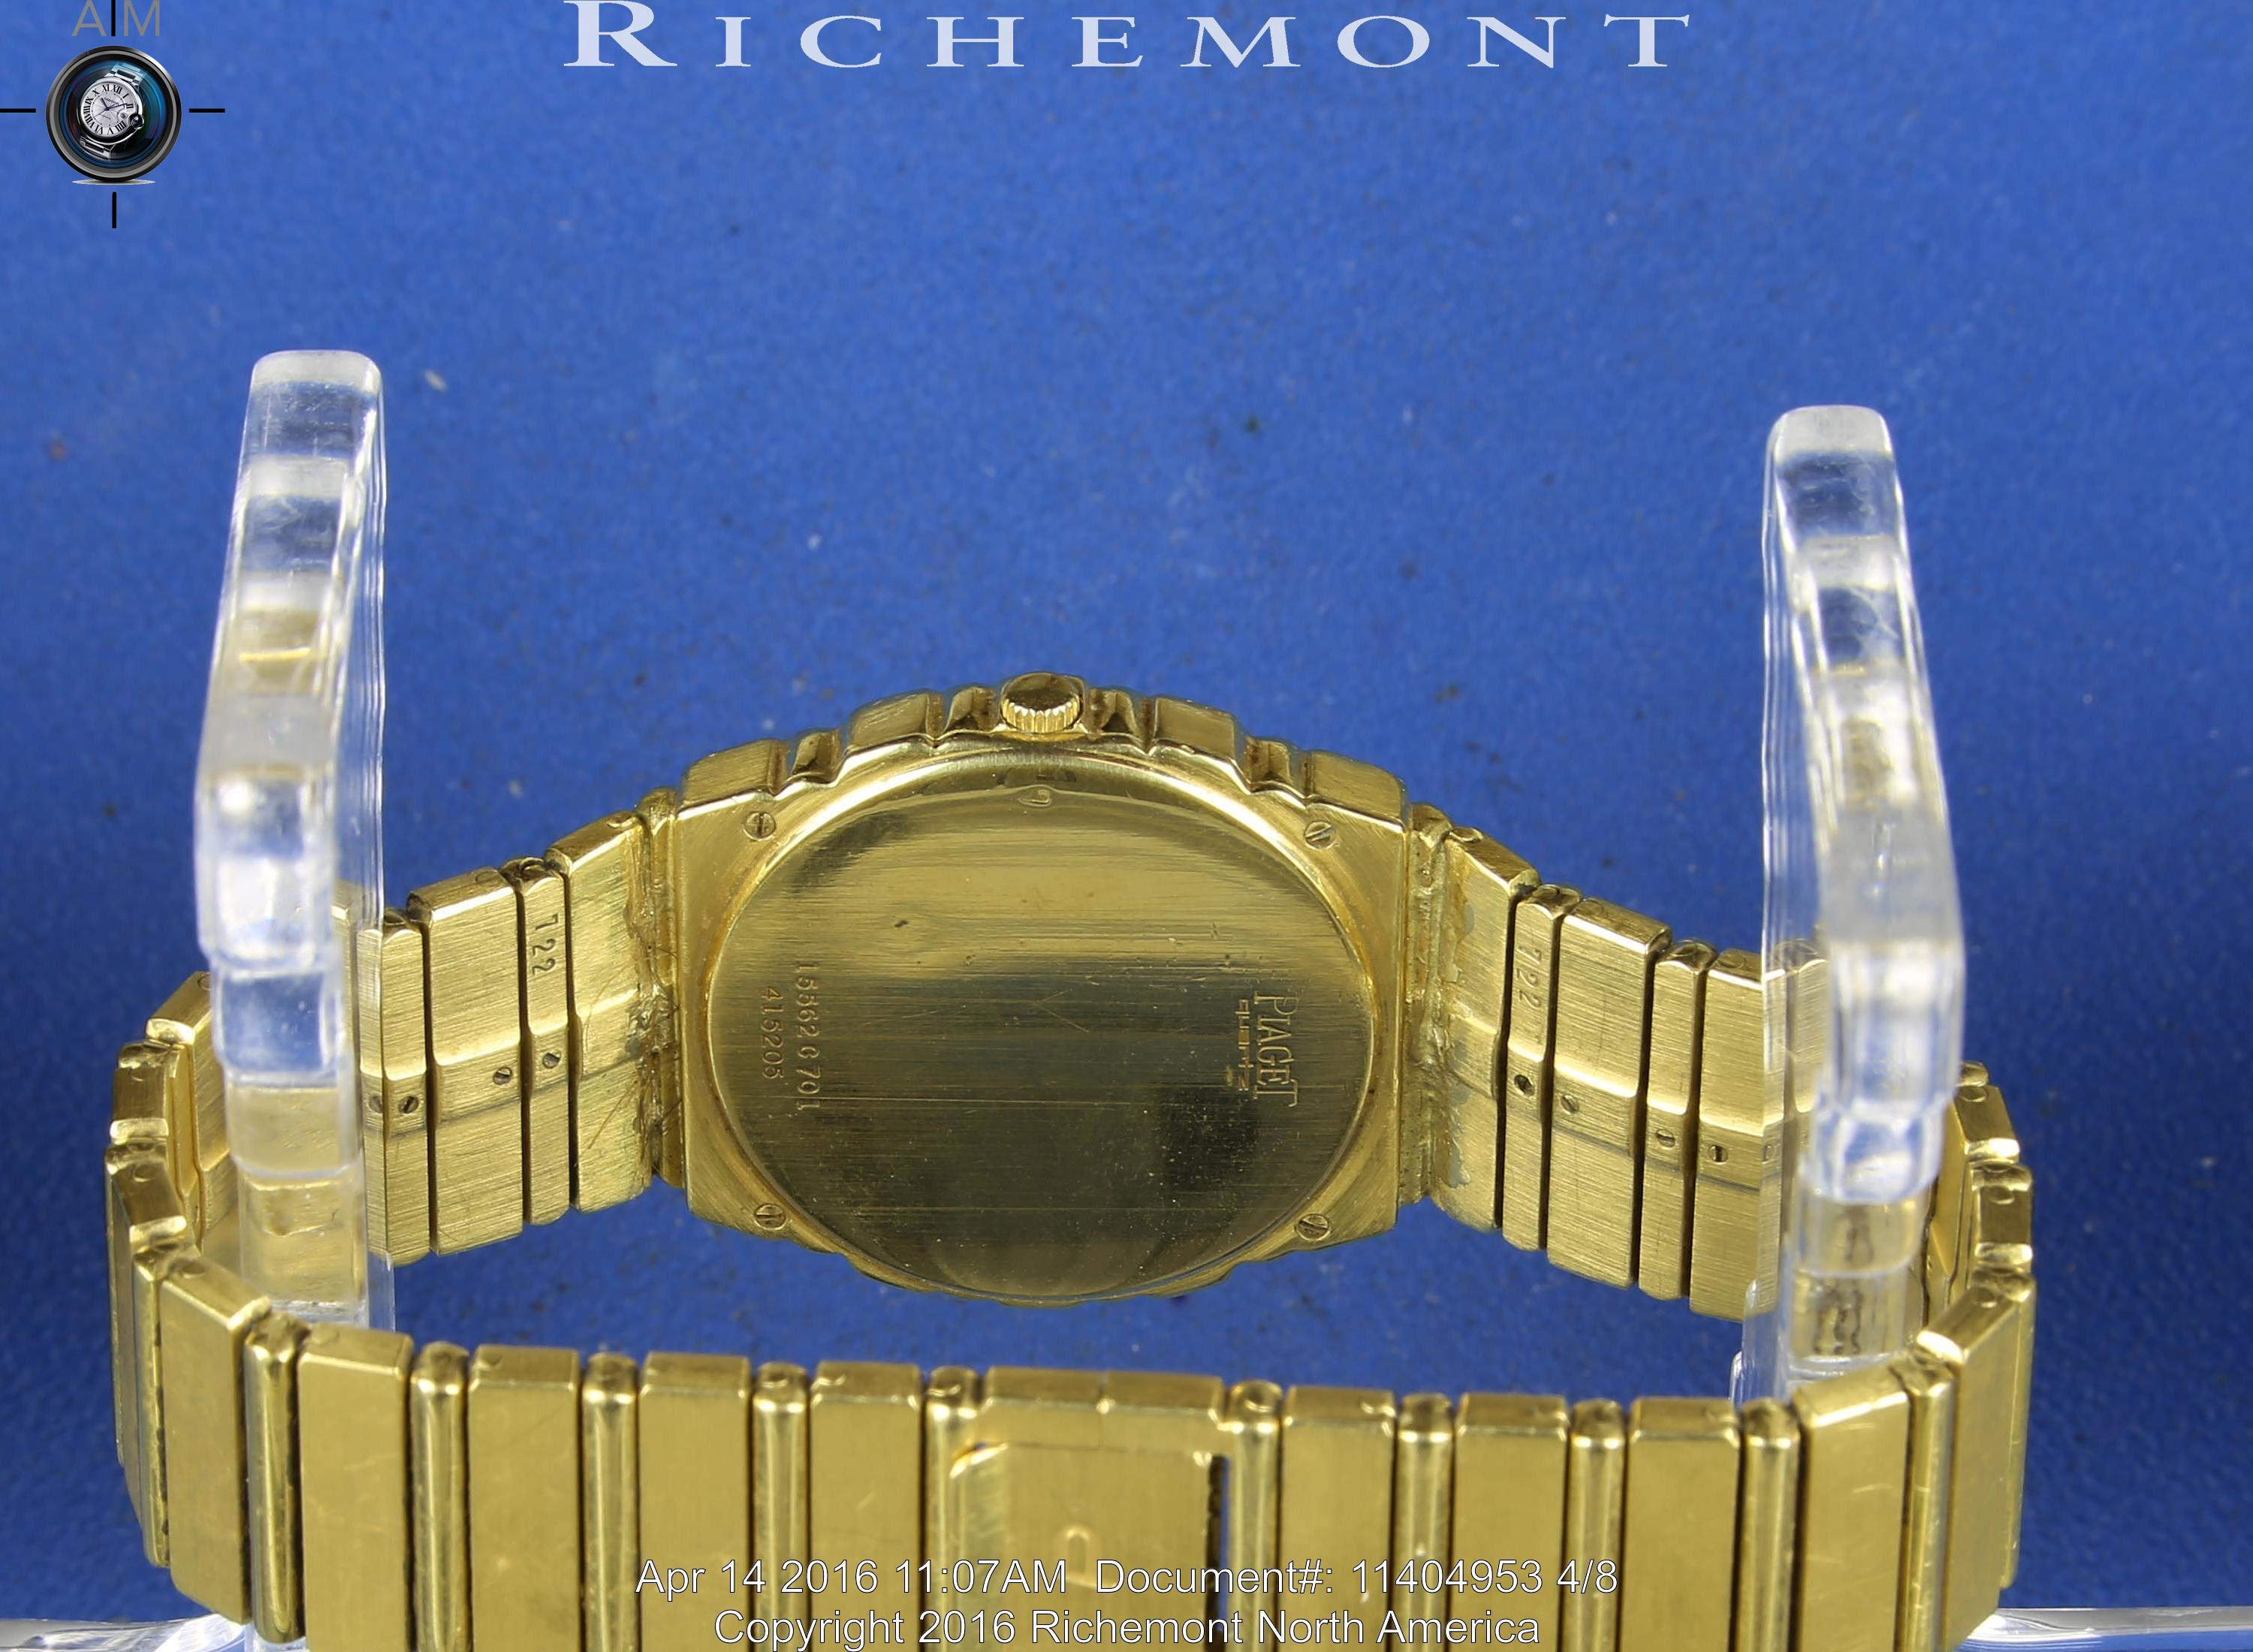Watch BackCase: (652, 661, 1440, 1316)
